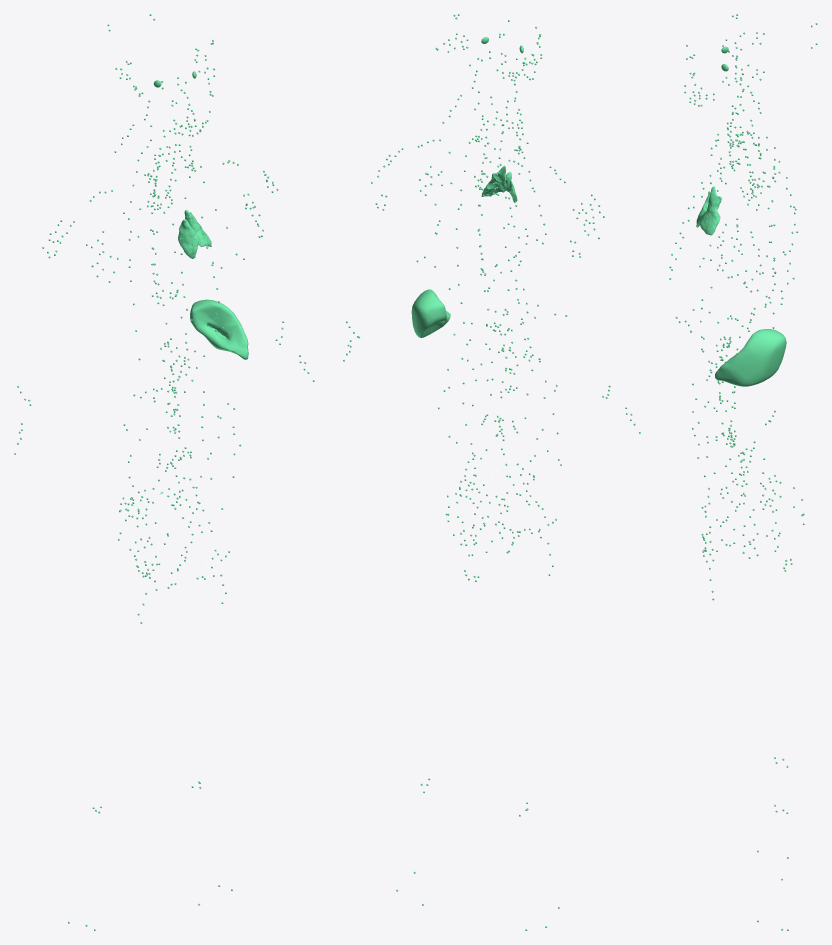
The model's file is lymphatic.glb.
3 views of the same model, side by side, from view 1: azimuth 30°, elevation 25°; view 2: azimuth 150°, elevation 25°; view 3: azimuth 270°, elevation 25° (orthographic).
Visible parts, largest first — view 1: Spleen; view 2: Spleen; view 3: Spleen, Left lobe of thymus.
Boxes of the visible parts, box(x1,y1,x2,y2) form: Spleen: box(190, 299, 248, 359); Spleen: box(411, 289, 450, 337); Spleen: box(715, 329, 786, 386); Left lobe of thymus: box(699, 186, 721, 235).
Size of the model in its own units: 0.4523 by 1.28 by 0.1963.
